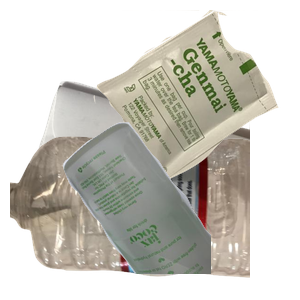glass: (60, 120, 300, 300)
paper: (25, 79, 265, 259)
plastic: (10, 134, 250, 300)
trash: (91, 10, 300, 186)
